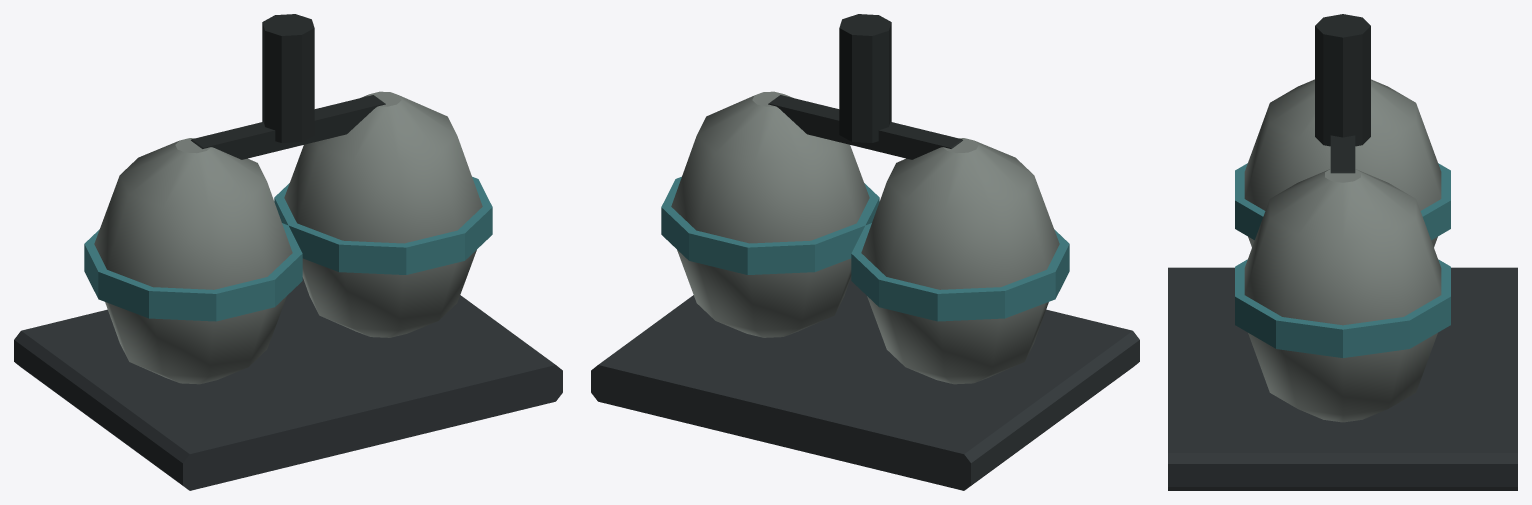
Rendered from FilterLungs.gltf.
The picture shows the model from 3 angles, left to right: view 1: azimuth 30°, elevation 25°; view 2: azimuth 150°, elevation 25°; view 3: azimuth 270°, elevation 25°; orthographic projection. The views are drawn at different scales.
Visible parts, largest first — view 1: FilterLungs; view 2: FilterLungs; view 3: FilterLungs.
Boxes of the visible parts, x1,y1,x2,y2 form: FilterLungs: (14, 14, 562, 490); FilterLungs: (591, 14, 1139, 490); FilterLungs: (1168, 14, 1517, 490).
Bounding box in the file's own units: 0.26 × 0.235 × 0.2.
